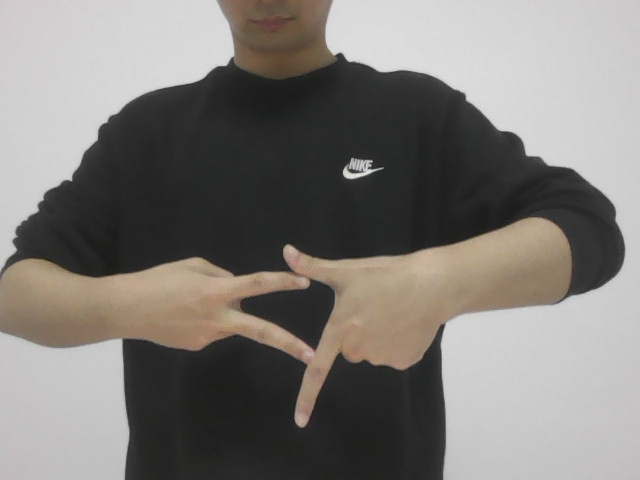introduce: (130, 227, 427, 436)
